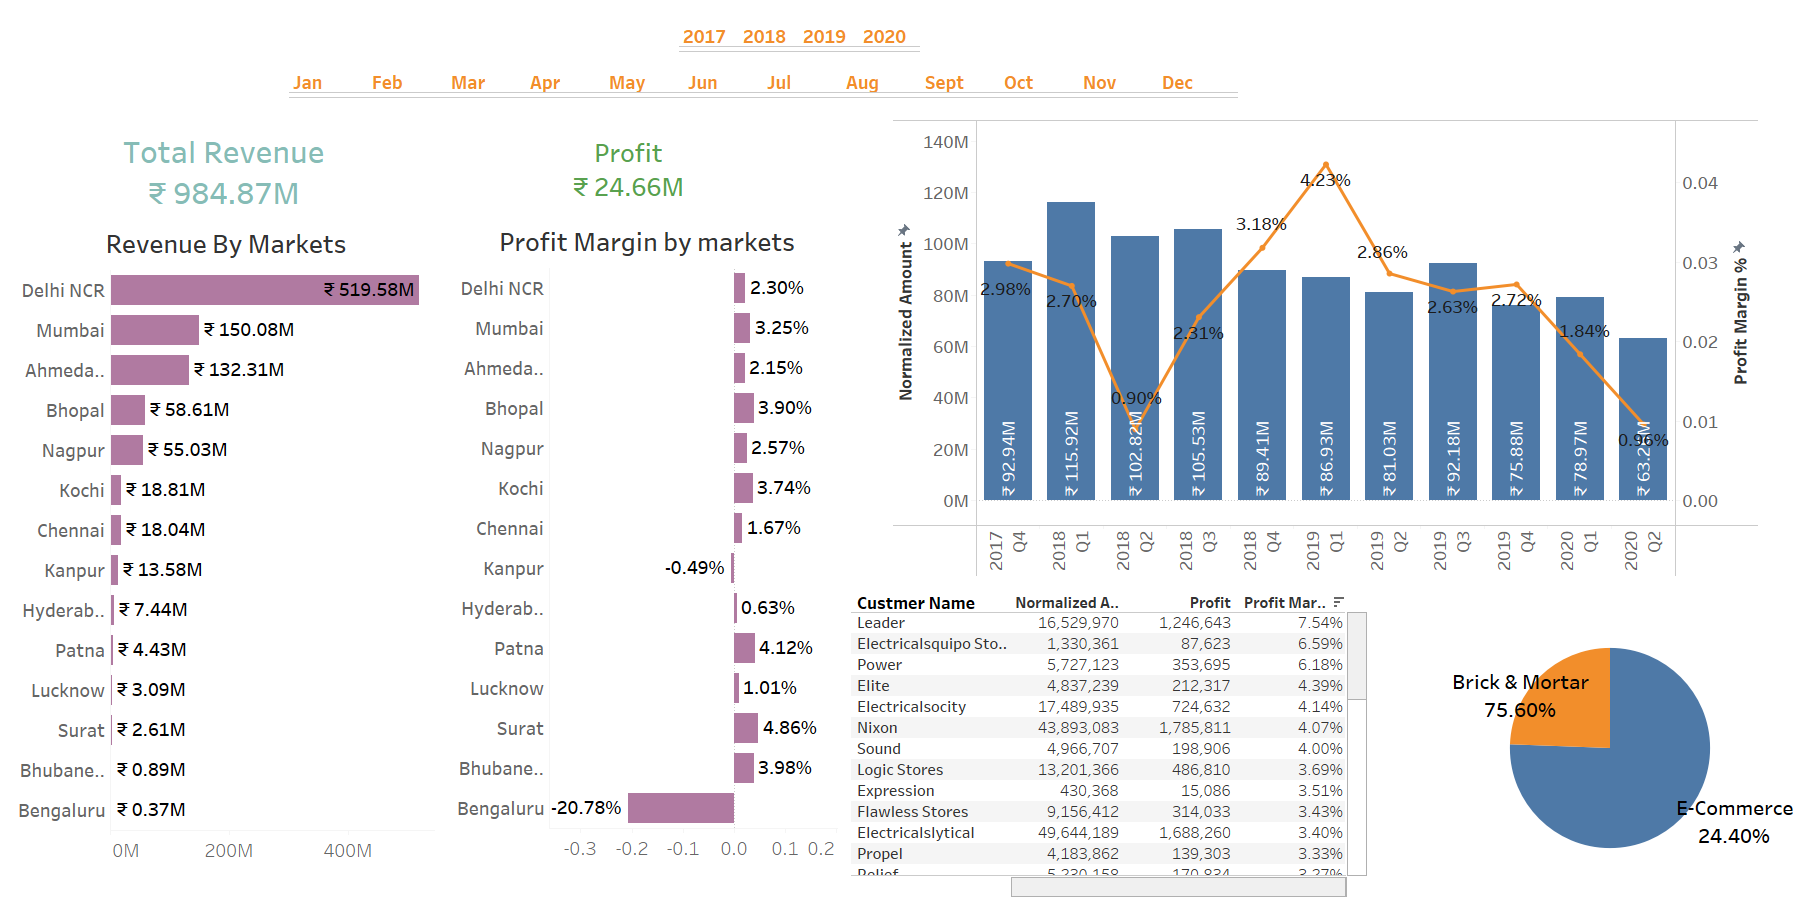

What the dashboard file says about the page in this screenshot:
{"tool":"tableau","page":{"name":"Profit analysis Dashboard","canvas":[1800,900],"ordinal":0},"visuals":[{"type":"worksheet","title":"Year","mark":"Automatic","cols":["cy_date"],"box":[679,11,324,44]},{"type":"worksheet","title":"Month","mark":"Automatic","cols":["cy_date"],"box":[289.2,57,1154.4,59]},{"type":"worksheet","title":"Profit trend","mark":"Bar","rows":["Calculation_1623829176487309312","Calculation_1623829176785842178"],"cols":["cy_date"],"box":[893,105,866,472]},{"type":"worksheet","title":"Revenue","mark":"Automatic","box":[114,116,225,113]},{"type":"worksheet","title":"Profit","mark":"Automatic","box":[559,120,152,102]},{"type":"worksheet","title":"Profit Margin by markets","mark":"Automatic","rows":["markets_name"],"cols":["Calculation_1623829176785842178"],"box":[457,218,380,670]},{"type":"worksheet","title":"Revenue By Markets","mark":"Automatic","rows":["markets_name"],"cols":["Calculation_1623829176487309312"],"box":[18,220,416,673]},{"type":"worksheet","title":"Customer Table","mark":"Automatic","rows":["custmer_name"],"box":[851,577,516,320]}]}

Visuals, with their boxes in screenshot pixels (x1, y1, x2, y2), scaled from the page's 1800x900 canvas onto the 1800x900 screenshot:
"Year" worksheet: 679:11:1003:55
"Month" worksheet: 289:57:1444:116
"Profit trend" worksheet (Bar marks): 893:105:1759:577
"Revenue" worksheet: 114:116:339:229
"Profit" worksheet: 559:120:711:222
"Profit Margin by markets" worksheet: 457:218:837:888
"Revenue By Markets" worksheet: 18:220:434:893
"Customer Table" worksheet: 851:577:1367:897
